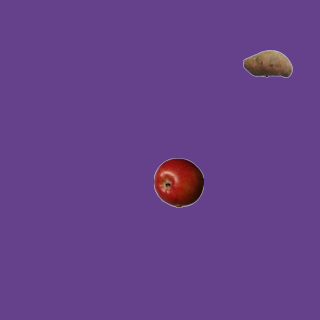Apple Braeburn: (153, 157, 203, 207)
Potato Sweet: (242, 38, 292, 88)
